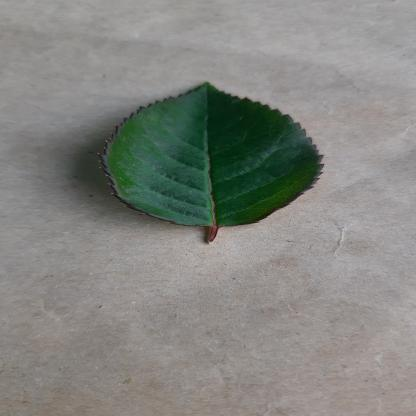normal: (90, 82, 328, 228)
